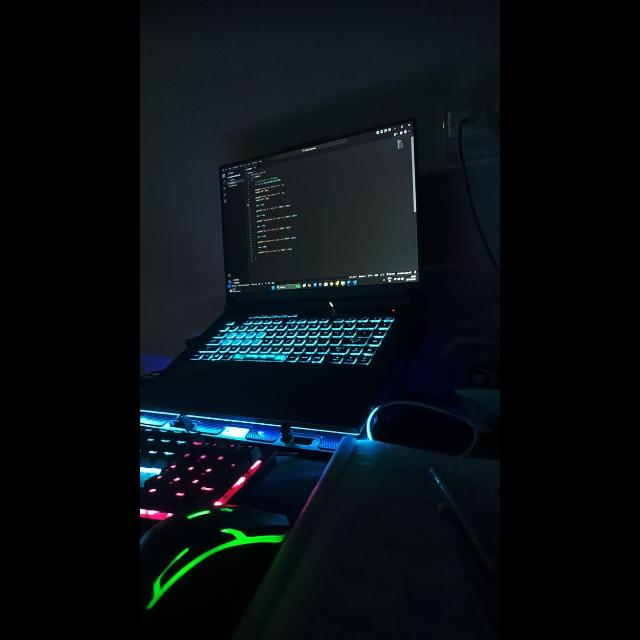laptop: (140, 117, 422, 444)
